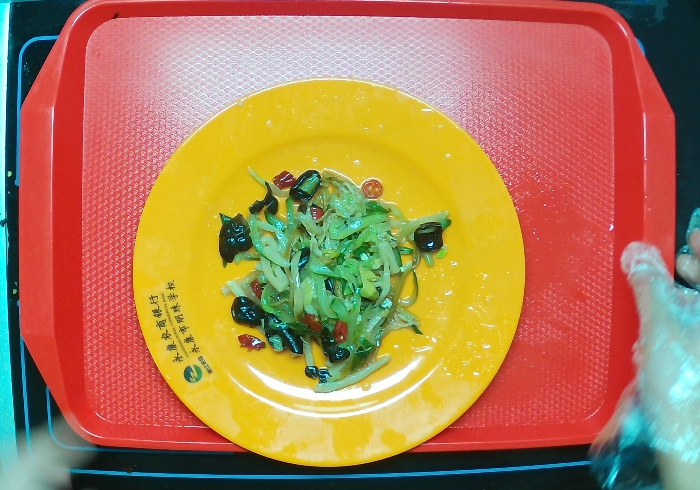YKMZ-Ju_Se_Mian_Pan: (130, 76, 527, 471)
